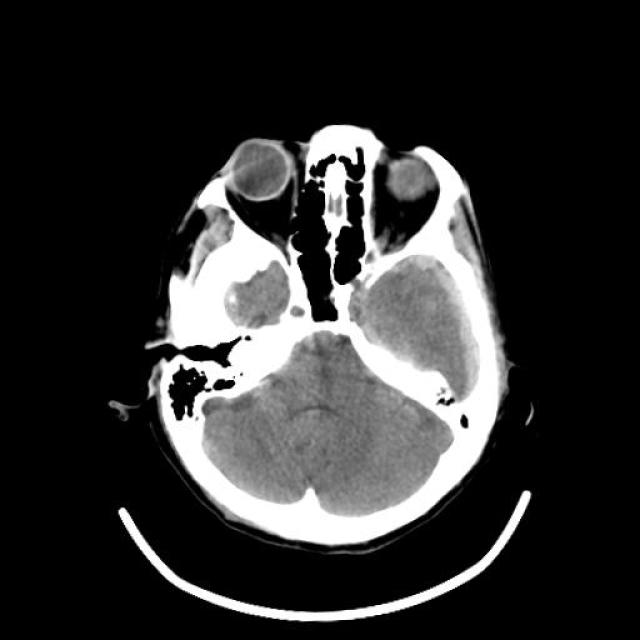Subdural: (406, 240, 514, 420)
